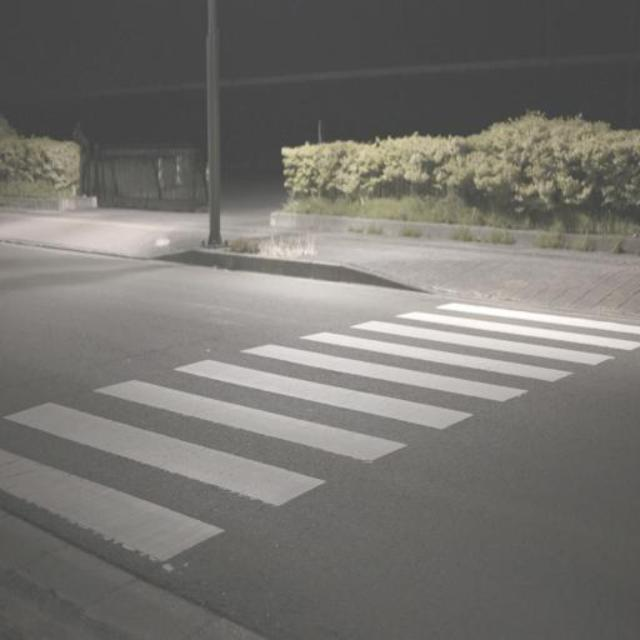sidewalk: (1, 303, 639, 564)
